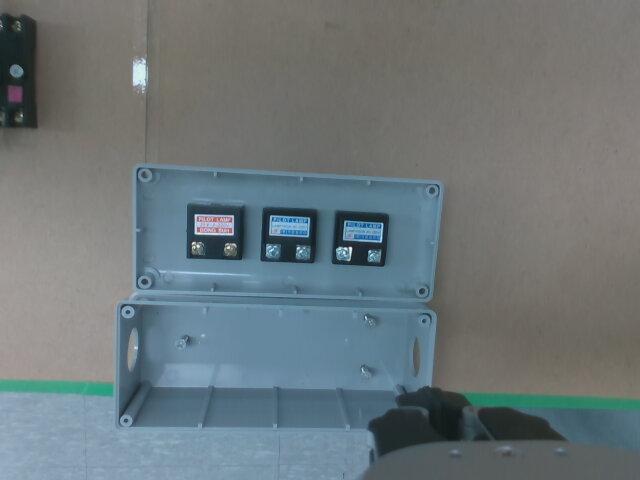L1(1): (190, 241, 205, 255)
L1(2): (224, 243, 237, 257)
L2(1): (265, 244, 280, 259)
L2(2): (296, 245, 310, 260)
L3(1): (337, 245, 352, 261)
L3(2): (367, 250, 381, 263)
